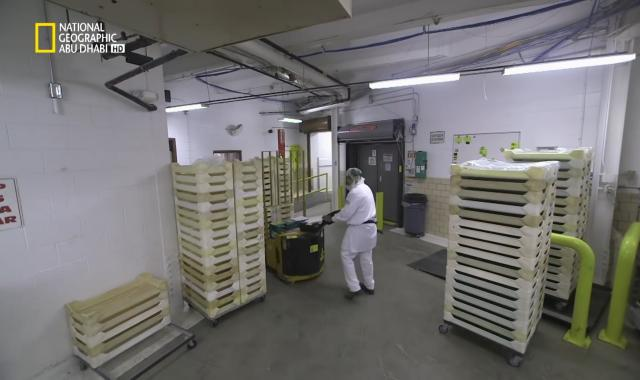hairnet: (346, 166, 363, 190)
